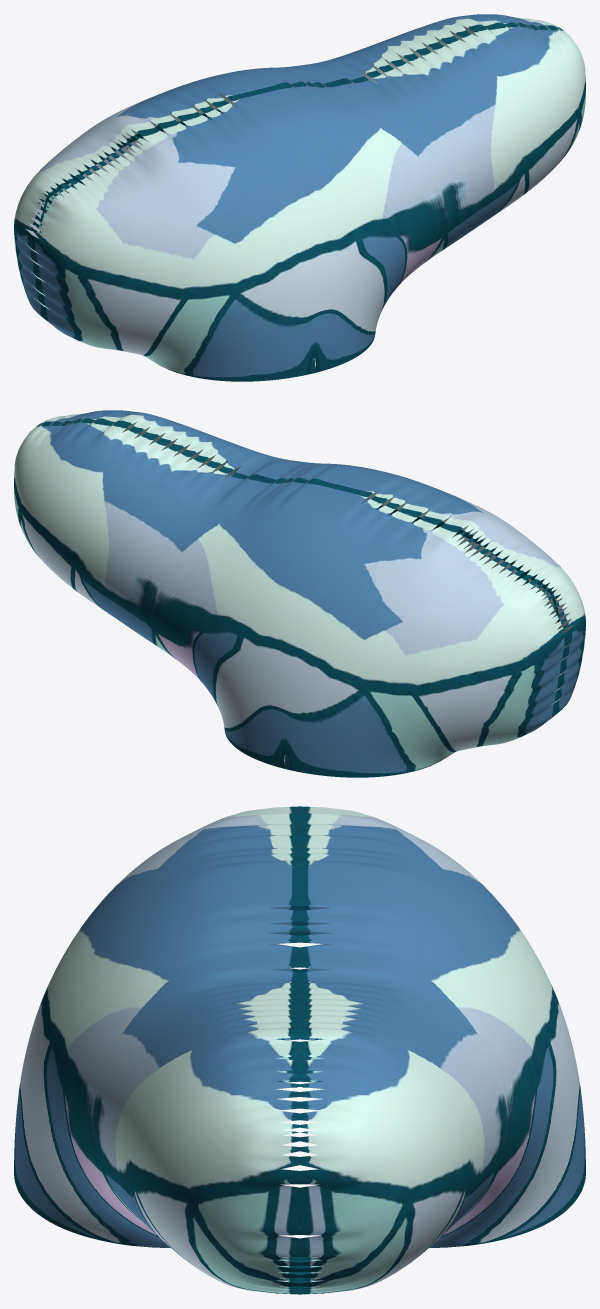
File: low_ice_terrace.glb
3 renders of one model, top to bottom at view 1: azimuth 30°, elevation 25°; view 2: azimuth 150°, elevation 25°; view 3: azimuth 270°, elevation 25°, orthographic. The views are drawn at different scales.
Parts seen in each view (by area): view 1: low_ice_terrace; view 2: low_ice_terrace; view 3: low_ice_terrace.
Boxes of the visible parts, x1,y1,x2,y2 form: low_ice_terrace: (14,14,585,381); low_ice_terrace: (14,410,585,777); low_ice_terrace: (14,806,585,1294).
Size of the model in its own units: 0.989 by 0.3762 by 0.5819.
Materials: 1 (1 with a texture image).
